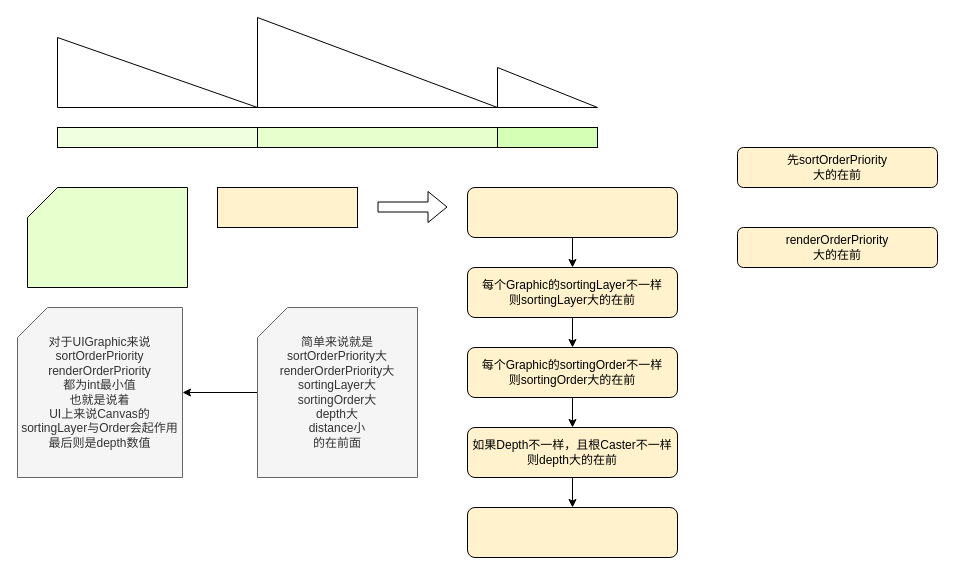
The diagram is 955 pixels wide and 575 high, and some of its shapes have lost their labels. The shapes that lost their labels are listed below. From the top down, each one's centre as x and y in pixels, then its label:
At pixel 287 207: "排序操作".
At pixel 572 212: "如果所处Raycaster不一样 则根据Raycaster的Priority排序".
At pixel 107 237: "每个不同 GraphicRaycaster之下 按照Depth 从大到校顺序".
At pixel 572 532: "最后是distance比较 distance小的在前".
